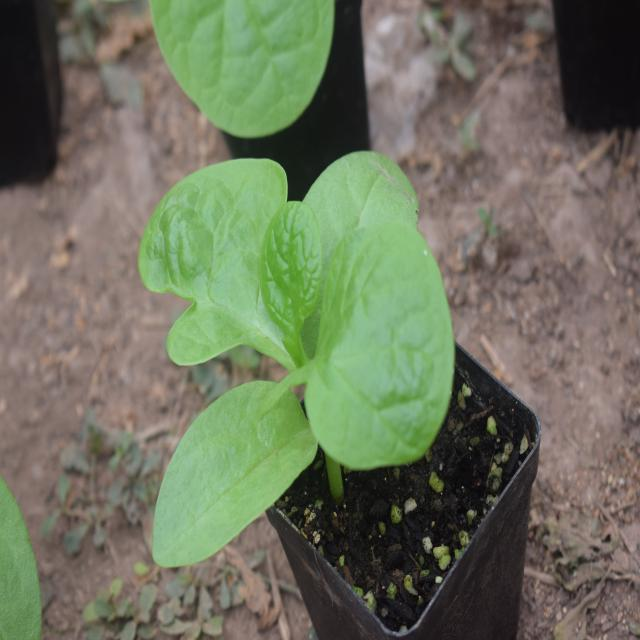Ceylon spinach: (104, 132, 478, 589)
